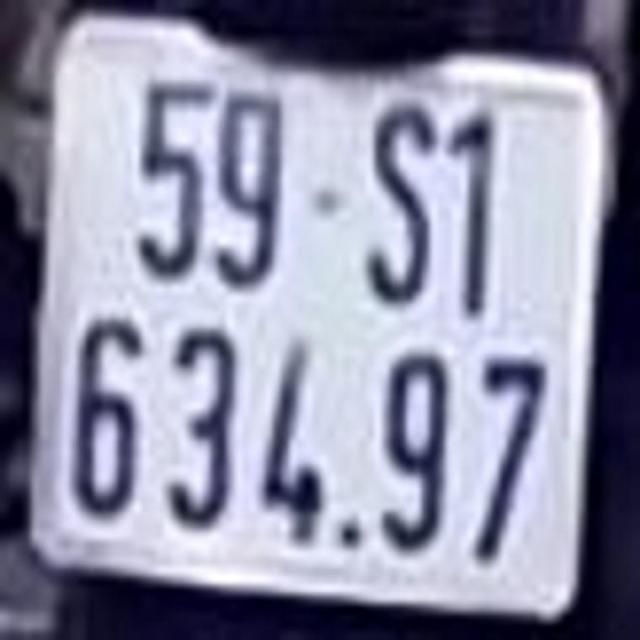1: (447, 100, 499, 311)
3: (170, 326, 233, 526)
4: (257, 334, 322, 544)
5: (140, 82, 214, 281)
6: (75, 316, 144, 518)
7: (472, 350, 546, 564)
9: (383, 351, 445, 548), (220, 84, 280, 286)
S: (365, 94, 442, 304)
